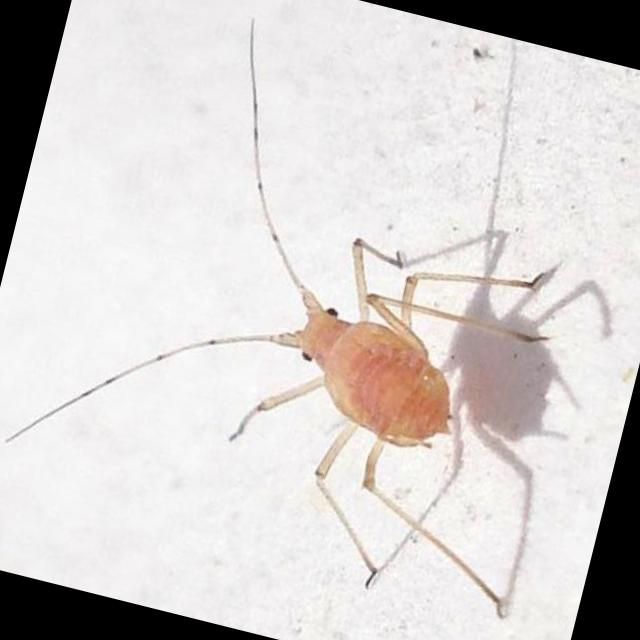aphid: (168, 205, 569, 566)
